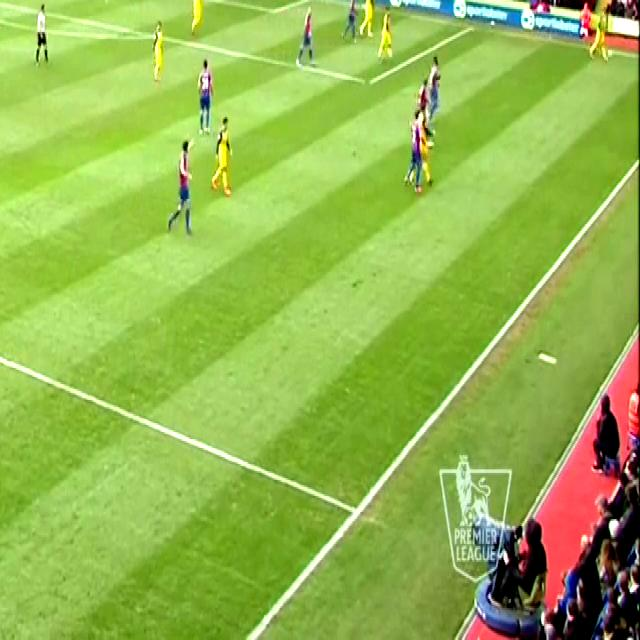referee: (36, 0, 55, 68)
soccer-player: (171, 137, 201, 245), (406, 106, 431, 197), (416, 99, 441, 187), (210, 108, 233, 199), (373, 0, 401, 62), (197, 52, 217, 136), (431, 52, 446, 141), (297, 6, 316, 74), (149, 17, 167, 86), (593, 2, 611, 66), (417, 75, 431, 137), (346, 0, 363, 41), (360, 0, 374, 39)
